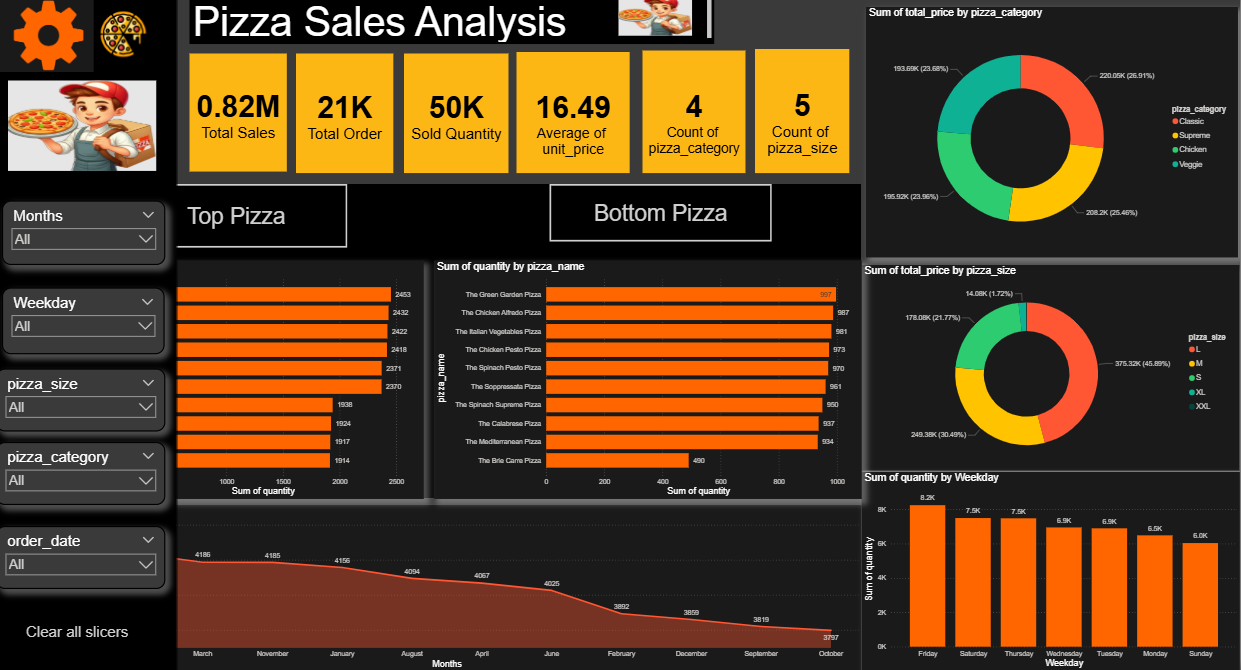

This screenshot's page, from the dashboard's own definition file:
{"tool":"powerbi","page":{"name":"Duplicate of Page 1","canvas":[2200,1200],"ordinal":0},"visuals":[{"type":"donutChart","fields":{"Category":["pizza_sales.pizza_category"],"Y":["Sum(pizza_sales.total_price)"]},"box":[1538.5,27,657.5,442.7],"z":0,"group":"g1"},{"type":"barChart","fields":{"Category":["pizza_sales.pizza_name"],"Y":["Sum(pizza_sales.quantity)"]},"box":[773.2,473.8,755.9,421.3],"z":0,"group":"g2"},{"type":"areaChart","fields":{"Category":["pizza_sales.Months"],"Y":["CountNonNull(pizza_sales.Weekday)"]},"box":[0,906.6,1529.6,294.3],"z":0},{"type":"group","id":"g1","title":"Group 1","box":[1529.6,27,669,1172.6],"z":1000},{"type":"card","fields":{"Values":["pizza_sales.Total Sales"]},"box":[342,108.6,171.8,208.8],"z":1000,"group":"g3"},{"type":"barChart","fields":{"Category":["pizza_sales.pizza_name"],"Y":["Sum(pizza_sales.quantity)"]},"box":[0,473.8,755.9,421.3],"z":1000,"group":"g2"},{"type":"donutChart","fields":{"Y":["Sum(pizza_sales.total_price)"],"Category":["pizza_sales.pizza_size"]},"box":[1530.6,483,668.1,363.2],"z":1000,"group":"g1"},{"type":"group","id":"g2","title":"Group 4","box":[0,339.3,1529.6,554.1],"z":2000},{"type":"actionButton","box":[228.3,339.3,392.9,112.5],"z":2000,"group":"g2"},{"type":"columnChart","fields":{"Category":["pizza_sales.Weekday"],"Y":["Sum(pizza_sales.quantity)"]},"box":[1529.6,848.3,668.5,351.4],"z":2000,"group":"g1"},{"type":"image","title":"show","box":[0,3.2,177.7,151.9],"z":3000},{"type":"card","fields":{"Values":["pizza_sales.Total Order"]},"box":[529.5,108.6,171.8,211.4],"z":3000,"group":"g3"},{"type":"actionButton","box":[978.6,339.3,392.9,101.7],"z":3000,"group":"g2"},{"type":"card","fields":{"Values":["Avg(pizza_sales.unit_price)"]},"box":[920.5,106.7,199.8,214.1],"z":4000,"group":"g3"},{"type":"actionButton","box":[159.9,0,131.5,149.3],"z":5000},{"type":"card","fields":{"Values":["pizza_sales.Sold Quantity"]},"box":[720.6,109.3,184.8,211.4],"z":5000,"group":"g3"},{"type":"textbox","box":[342.4,4.3,927.4,86.7],"z":6000},{"type":"actionButton","box":[1100.7,8.7,130,69.3],"z":7000},{"type":"card","fields":{"Values":["Count(pizza_sales.pizza_category)"]},"box":[1141.3,103.3,182.3,216.7],"z":7000,"group":"g3"},{"type":"group","id":"g3","title":"Group 2","box":[342,100.7,1166.4,220],"z":8000},{"type":"card","fields":{"Values":["Count(pizza_sales.pizza_size)"]},"box":[1341.8,100.7,166.6,219.3],"z":9000,"group":"g3"}]}

Visuals, with their boxes in screenshot pixels (x1, y1, x2, y2), scaled from the page's 2200x1200 canvas onto the 1241x670 screenshot:
donutChart - pizza_sales.pizza_category x Sum(pizza_sales.total_price): x1=868, y1=15, x2=1239, y2=262
barChart - pizza_sales.pizza_name x Sum(pizza_sales.quantity): x1=436, y1=265, x2=863, y2=500
areaChart - pizza_sales.Months x CountNonNull(pizza_sales.Weekday): x1=0, y1=506, x2=863, y2=669
"Group 1" group: x1=863, y1=15, x2=1240, y2=669
card - pizza_sales.Total Sales: x1=193, y1=61, x2=290, y2=177
barChart - pizza_sales.pizza_name x Sum(pizza_sales.quantity): x1=0, y1=265, x2=426, y2=500
donutChart - Sum(pizza_sales.total_price) x pizza_sales.pizza_size: x1=863, y1=270, x2=1240, y2=472
"Group 4" group: x1=0, y1=189, x2=863, y2=499
actionButton: x1=129, y1=189, x2=350, y2=252
columnChart - pizza_sales.Weekday x Sum(pizza_sales.quantity): x1=863, y1=474, x2=1240, y2=669
"show" image: x1=0, y1=2, x2=100, y2=87
card - pizza_sales.Total Order: x1=299, y1=61, x2=396, y2=179
actionButton: x1=552, y1=189, x2=774, y2=246
card - Avg(pizza_sales.unit_price): x1=519, y1=60, x2=632, y2=179
actionButton: x1=90, y1=0, x2=164, y2=83
card - pizza_sales.Sold Quantity: x1=406, y1=61, x2=511, y2=179
textbox: x1=193, y1=2, x2=716, y2=51
actionButton: x1=621, y1=5, x2=694, y2=44
card - Count(pizza_sales.pizza_category): x1=644, y1=58, x2=747, y2=179
"Group 2" group: x1=193, y1=56, x2=851, y2=179
card - Count(pizza_sales.pizza_size): x1=757, y1=56, x2=851, y2=179
